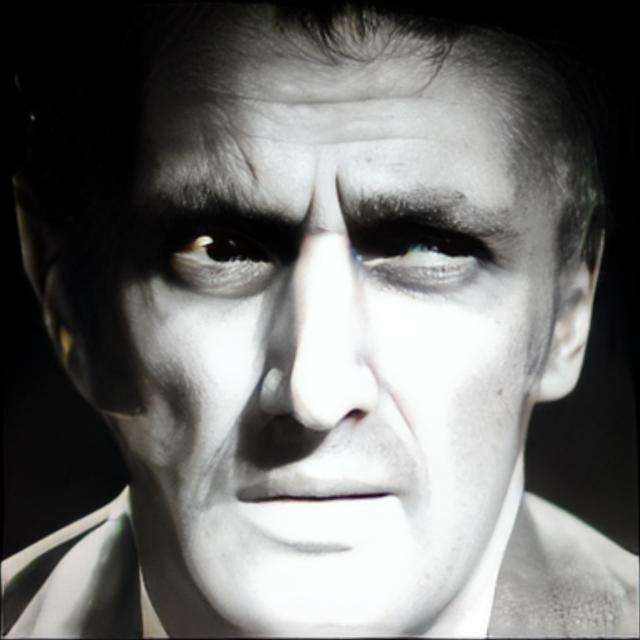disgust: (99, 1, 534, 640)
